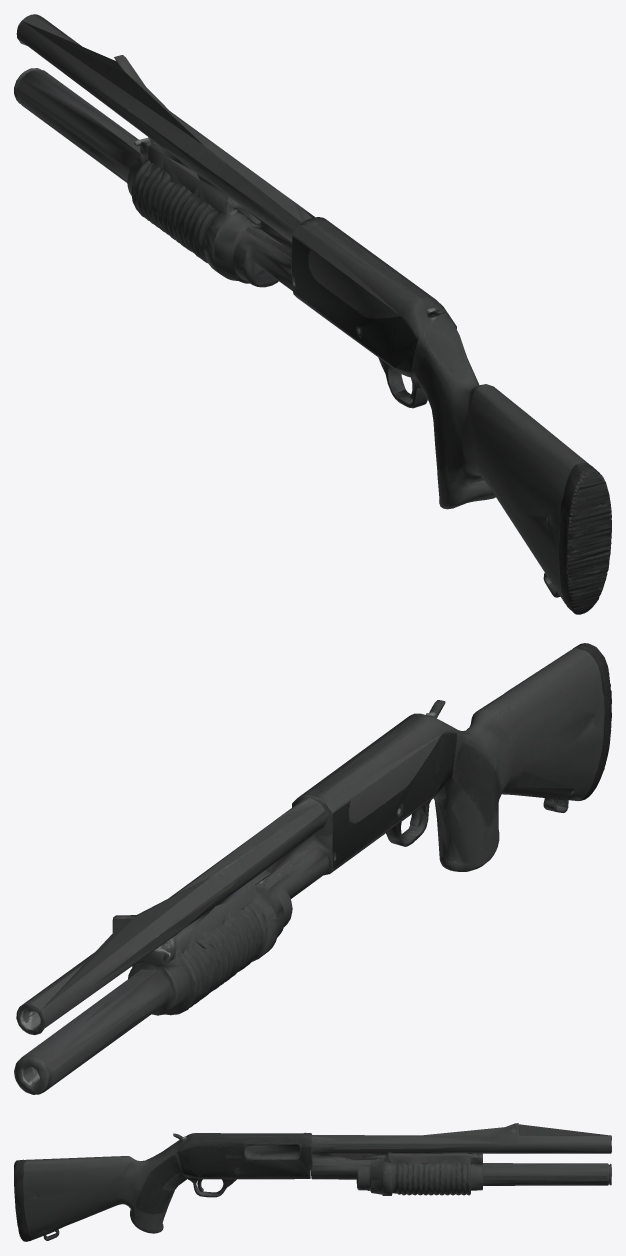
File: sg_hullbreaker.glb
3 renders of one model, top to bottom at view 1: azimuth 30°, elevation 25°; view 2: azimuth 150°, elevation 25°; view 3: azimuth 270°, elevation 25°, orthographic. The views are drawn at different scales.
Visible parts, largest first — view 1: sg_hullbreaker; view 2: sg_hullbreaker; view 3: sg_hullbreaker.
Boxes of the visible parts, x1=… form: sg_hullbreaker: x1=14, y1=14, x2=611, y2=614; sg_hullbreaker: x1=14, y1=643, x2=611, y2=1094; sg_hullbreaker: x1=14, y1=1123, x2=611, y2=1241.
Bounding box in the file's own units: 0.0686 × 0.2161 × 1.
Materials: 1 (1 with a texture image).
